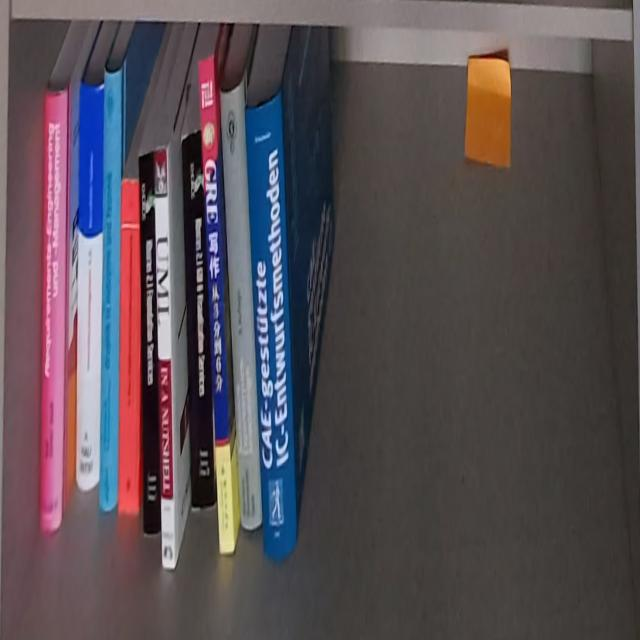Book Spine: (244, 93, 298, 563), (220, 73, 262, 531), (199, 55, 235, 554), (181, 128, 216, 507), (75, 80, 105, 494), (41, 83, 68, 533), (98, 66, 124, 513), (153, 144, 176, 572), (137, 152, 160, 536), (118, 178, 141, 509)
